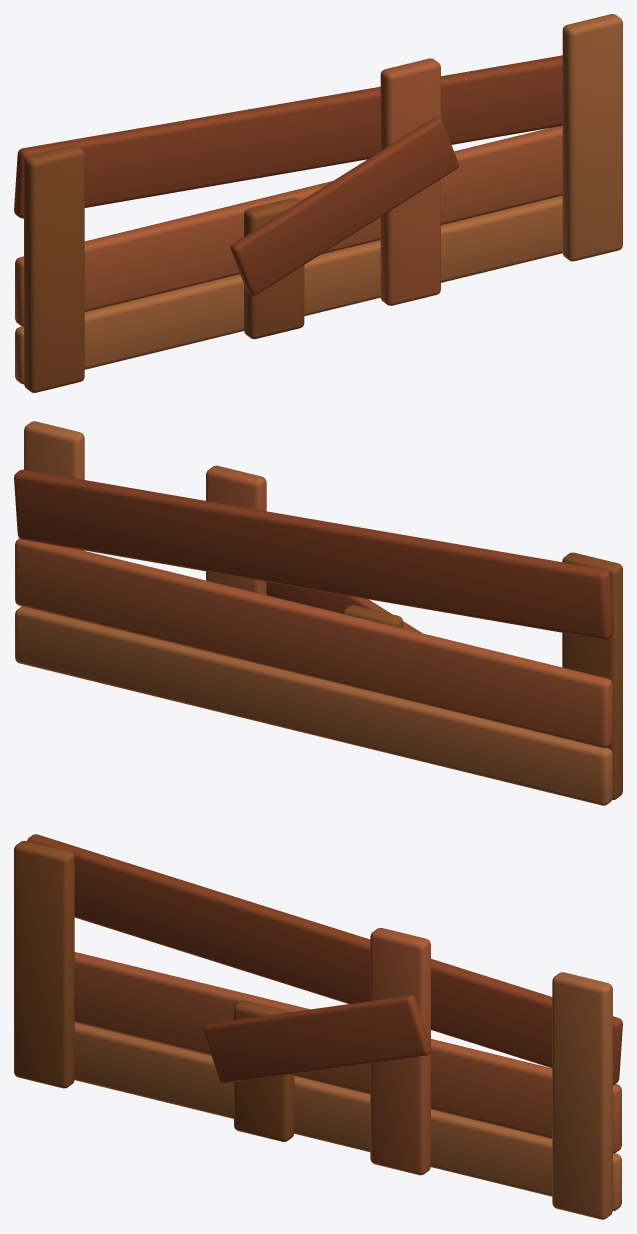
The model's file is barrière au top.fbx.
The picture shows the model from 3 angles, top to bottom: view 1: azimuth 30°, elevation 25°; view 2: azimuth 150°, elevation 25°; view 3: azimuth 330°, elevation 25°; orthographic projection.
Parts seen in each view (by area): view 1: Cube.075; view 2: Cube.075; view 3: Cube.075.
Part boxes in pixels (x1,y1,x2,y2): Cube.075: [14, 14, 622, 392]; Cube.075: [14, 421, 622, 805]; Cube.075: [14, 834, 622, 1219].
Size of the model in its own units: 268 by 100 by 20.17.
